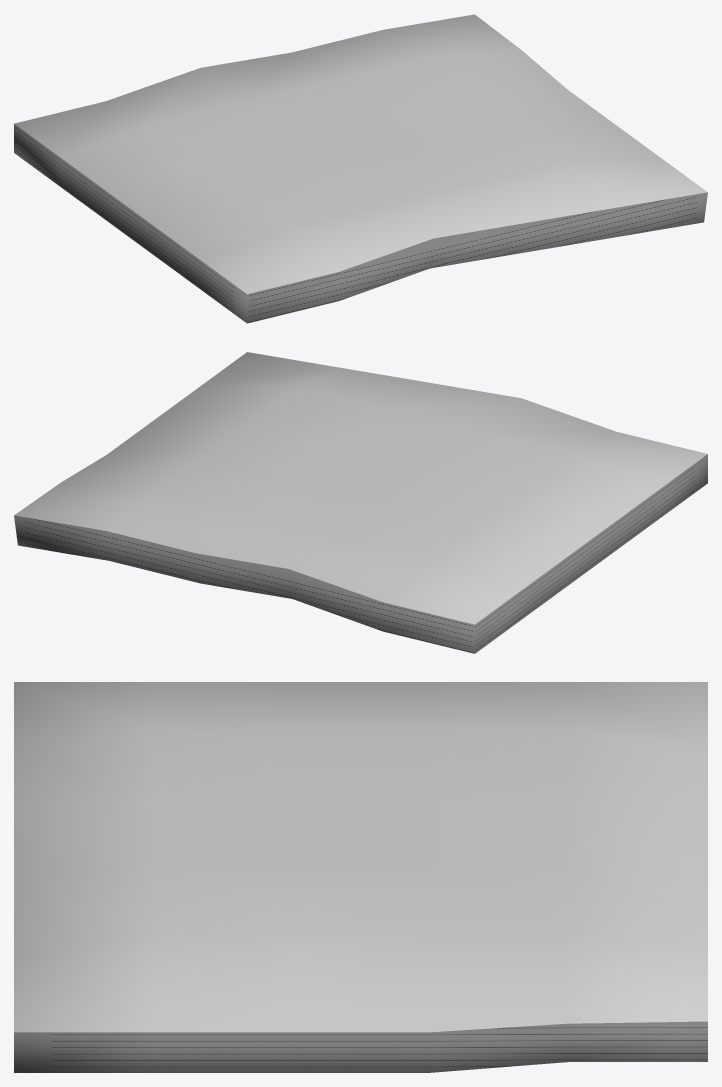
The model's file is Jornal.fbx.
3 views of the same model, one above another, from view 1: azimuth 30°, elevation 25°; view 2: azimuth 150°, elevation 25°; view 3: azimuth 270°, elevation 25° (orthographic). The views are drawn at different scales.
Parts seen in each view (by area): view 1: pPlane5; view 2: pPlane5; view 3: pPlane5.
Boxes of the visible parts, bbox=[...] form: pPlane5: bbox=[14, 14, 707, 323]; pPlane5: bbox=[14, 352, 707, 653]; pPlane5: bbox=[14, 682, 707, 1072].
Size of the model in its own units: 1.37 by 0.1425 by 1.2.
